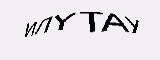А: (100, 12, 130, 34)
И: (23, 21, 36, 38)
П: (33, 16, 52, 34)
Т: (78, 9, 103, 33)
У: (124, 14, 141, 34)
Ү: (53, 12, 77, 32)
